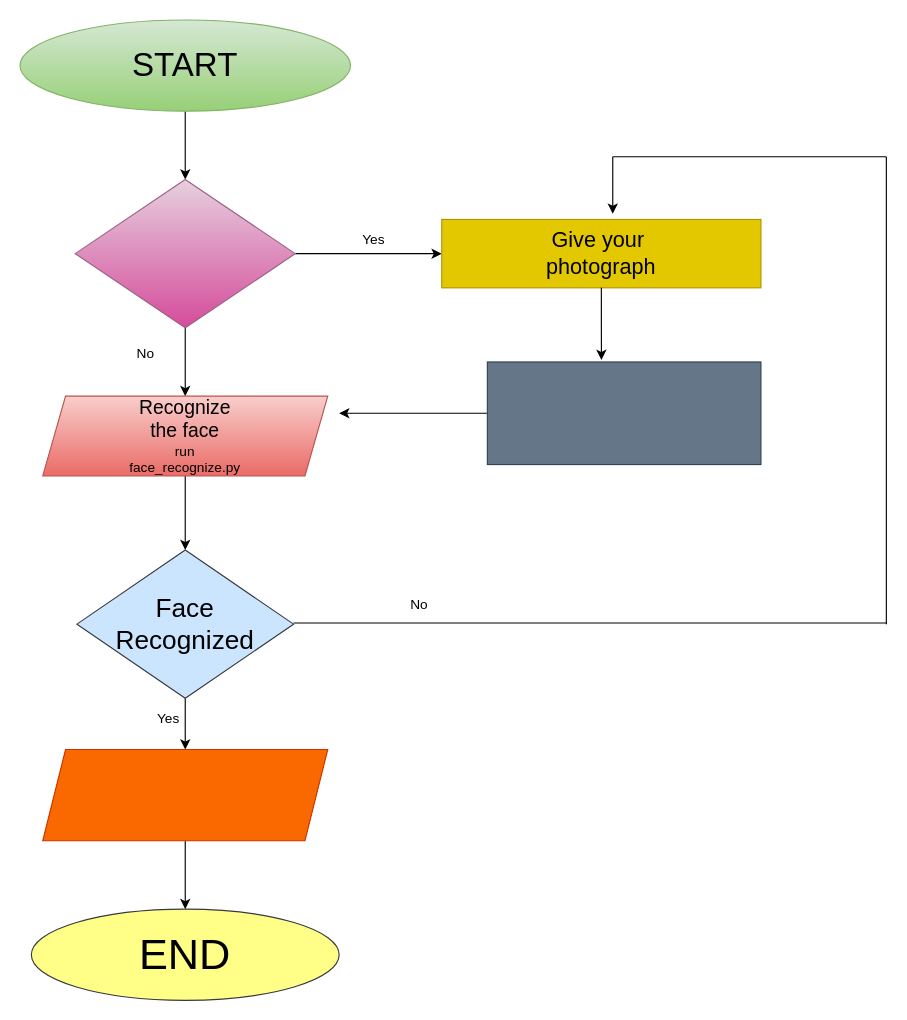
The diagram is 907 pixels wide and 1020 high, and some of its shapes have lost their labels. The shapes that lost their labels are listed below. From the top down, each one's centre as x and y in pixels, then its label:
At pixel 184 253: "NEW USER? run create_dataset py".
At pixel 623 413: "Store the face data in folder on your name".
At pixel 185 794: "Stored in csv file with Resgistration Number & Date ,Time of Entry".
